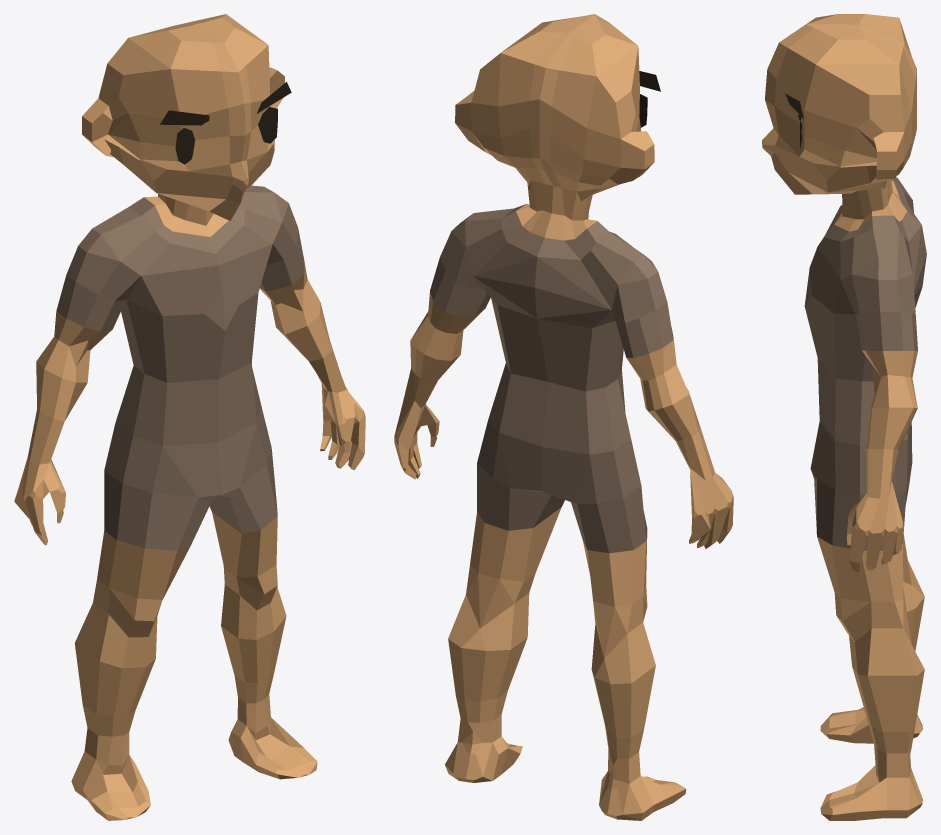
Rendered from Artemis.fbx.
The picture shows the model from 3 angles, left to right: view 1: azimuth 30°, elevation 25°; view 2: azimuth 150°, elevation 25°; view 3: azimuth 270°, elevation 25°; orthographic projection.
Parts seen in each view (by area): view 1: Artemis; view 2: Artemis; view 3: Artemis.
Part boxes in pixels (x1,y1,x2,y2): Artemis: (14, 14, 365, 820); Artemis: (394, 14, 733, 820); Artemis: (762, 14, 926, 820).
Size of the model in its own units: 80.6 by 174 by 34.78.
